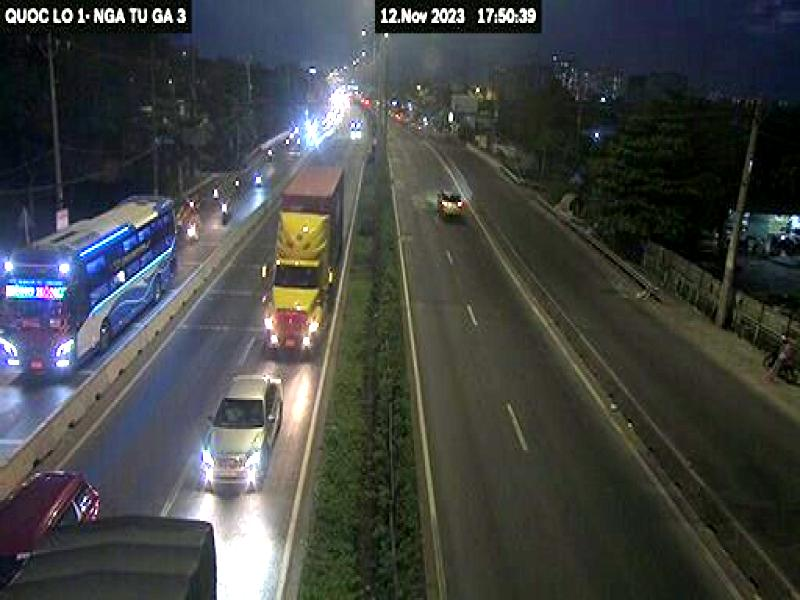bus: (0, 185, 183, 384)
truck: (257, 160, 348, 352)
